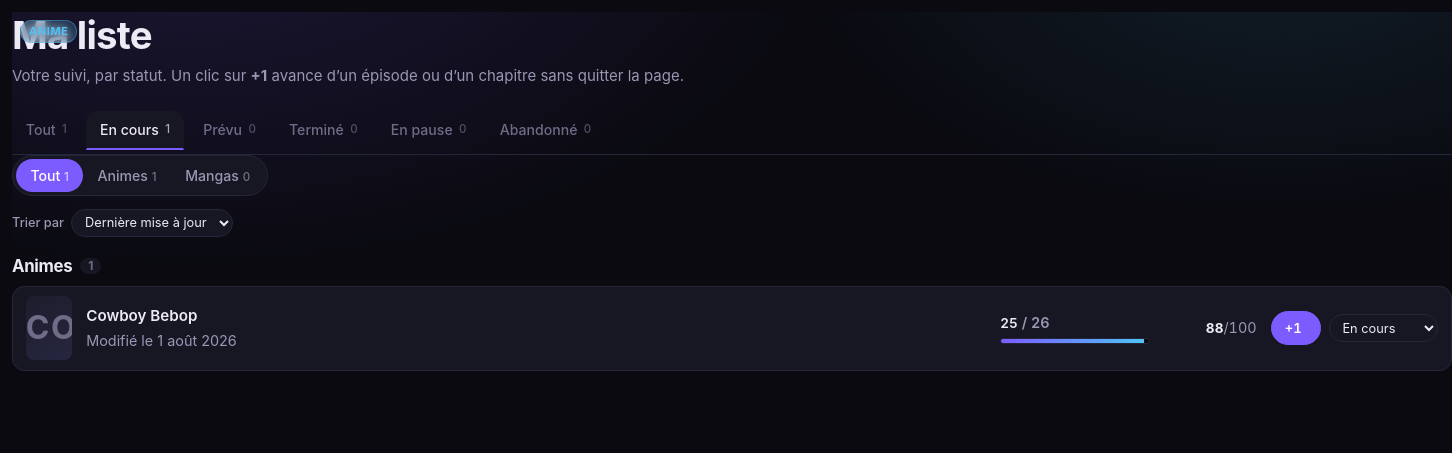
it: ListPage — le bouton « +1 » › ne propose rien quand le serveur a déjà marqué le titre terminé
The image size is (1452, 453).
What coordinates should you click on to do the following:
click the button "+1"
I would click on:
 (1296, 328)
Its box is left=1271, top=311, right=1321, bottom=345.
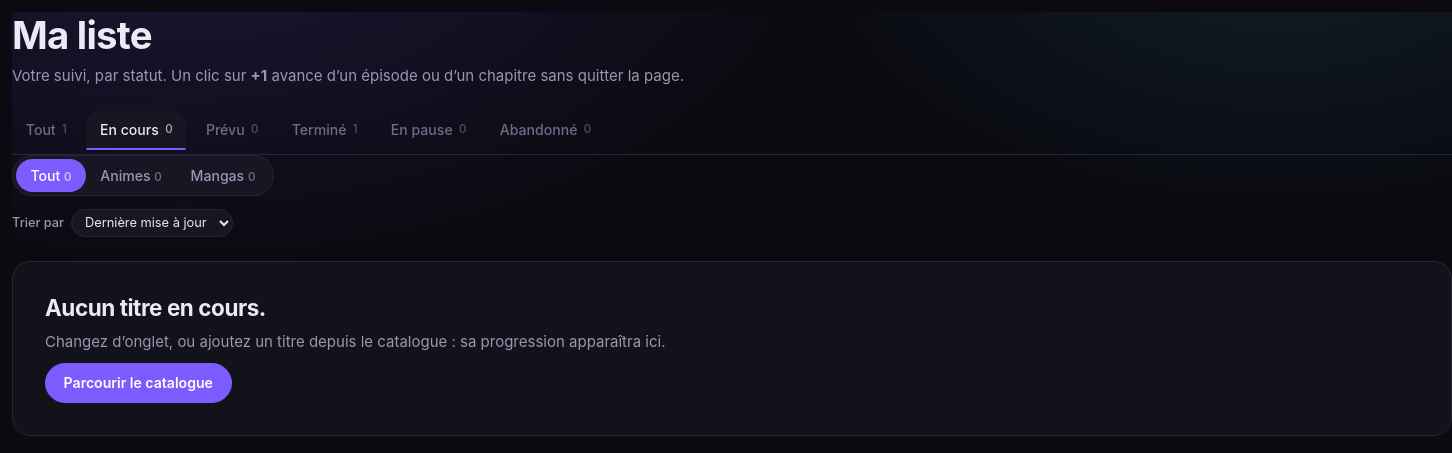
Check: the link "Cowboy Bebop" is gone
Check: the 2nd text "1" is shown, box left=353, top=121, right=358, bottom=139
